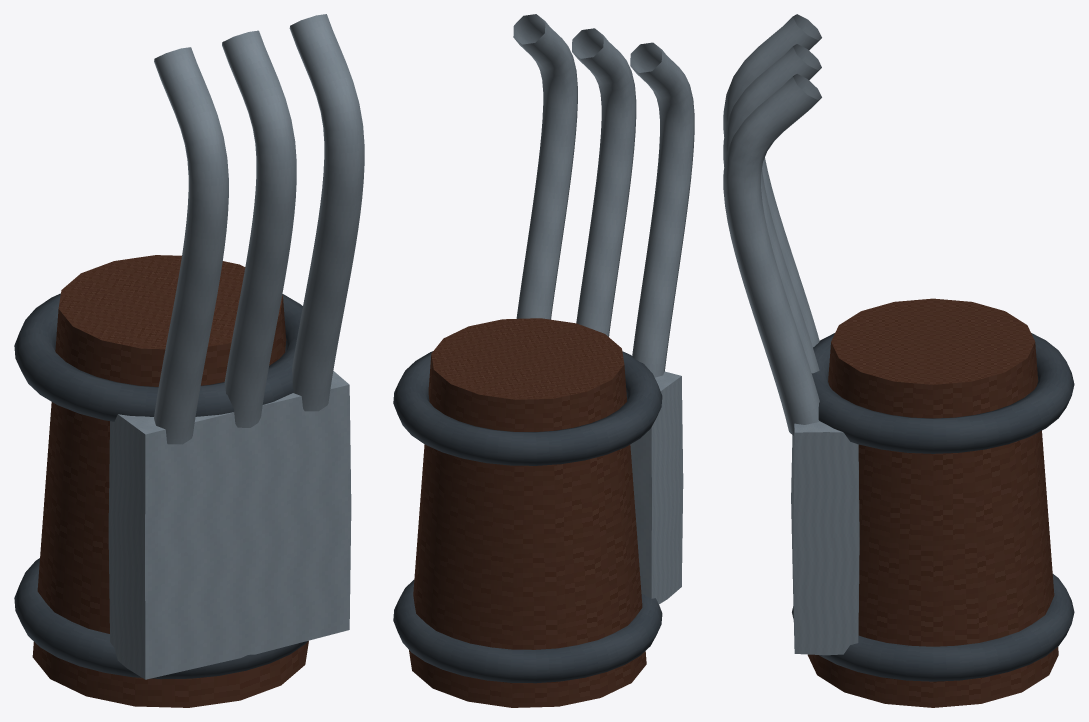
File: talons.lod1.glb
3 views of the same model, side by side, from view 1: azimuth 30°, elevation 25°; view 2: azimuth 150°, elevation 25°; view 3: azimuth 270°, elevation 25° (orthographic). The views are drawn at different scales.
Visible parts, largest first — view 1: steel.3, leather.0, steel.4, steel.6, steel.5, iron.2, iron.1; view 2: leather.0, iron.2, steel.4, steel.6, steel.5, iron.1, steel.3; view 3: leather.0, steel.3, steel.6, iron.2, iron.1, steel.5, steel.4.
Boxes of the visible parts, x1,y1,x2,y2 form: steel.3: [108, 371, 351, 679]; leather.0: [32, 255, 308, 707]; steel.4: [154, 47, 228, 444]; steel.6: [289, 14, 364, 411]; steel.5: [222, 30, 296, 427]; iron.2: [14, 293, 302, 421]; iron.1: [14, 558, 307, 679]; leather.0: [409, 318, 646, 707]; iron.2: [393, 351, 662, 465]; steel.4: [630, 42, 694, 377]; steel.6: [513, 14, 577, 319]; steel.5: [572, 28, 636, 336]; iron.1: [393, 580, 662, 683]; steel.3: [630, 371, 683, 604]; leather.0: [807, 298, 1058, 707]; steel.3: [791, 421, 859, 655]; steel.6: [723, 74, 821, 435]; iron.2: [811, 333, 1074, 453]; iron.1: [792, 574, 1074, 681]; steel.5: [723, 44, 821, 373]; steel.4: [723, 14, 821, 347].
Size of the model in its own units: 0.18 by 0.4275 by 0.2235.
3 materials, 3 textured.
